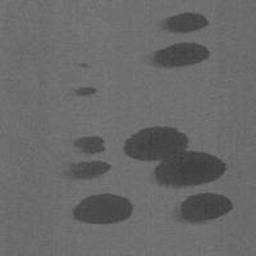Oil spot: (123, 124, 227, 187), (69, 192, 134, 225), (179, 192, 234, 225), (151, 42, 210, 69), (160, 12, 209, 33), (63, 160, 113, 180), (72, 136, 108, 155), (73, 86, 99, 97), (77, 61, 93, 69)
